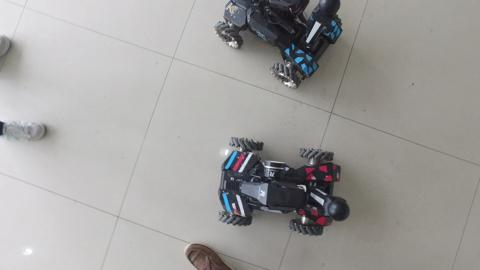chariot: (214, 136, 351, 239), (217, 1, 348, 90)
